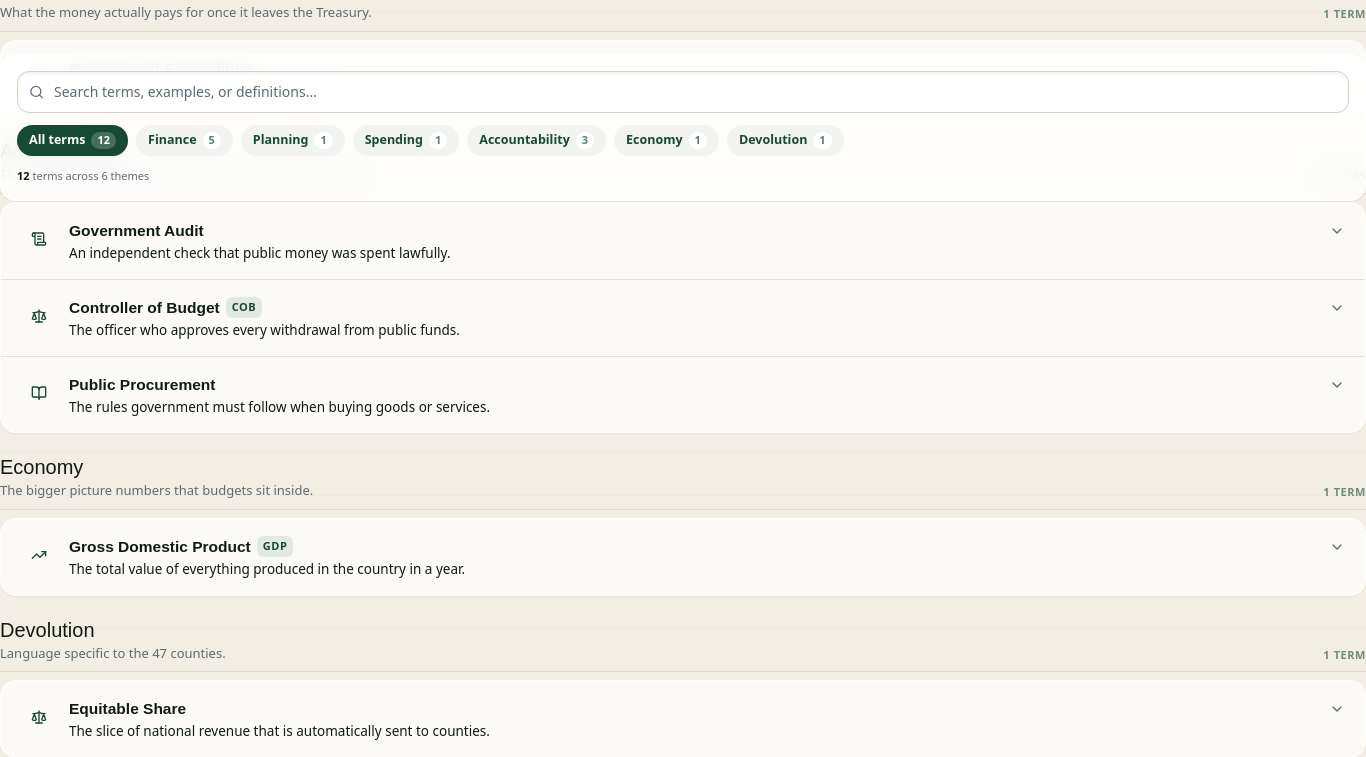
falls back to the dated example when the API fails
(page scrolled)
Click the text "Gross Domestic Product".
click(160, 547)  # box [69,535,251,558]
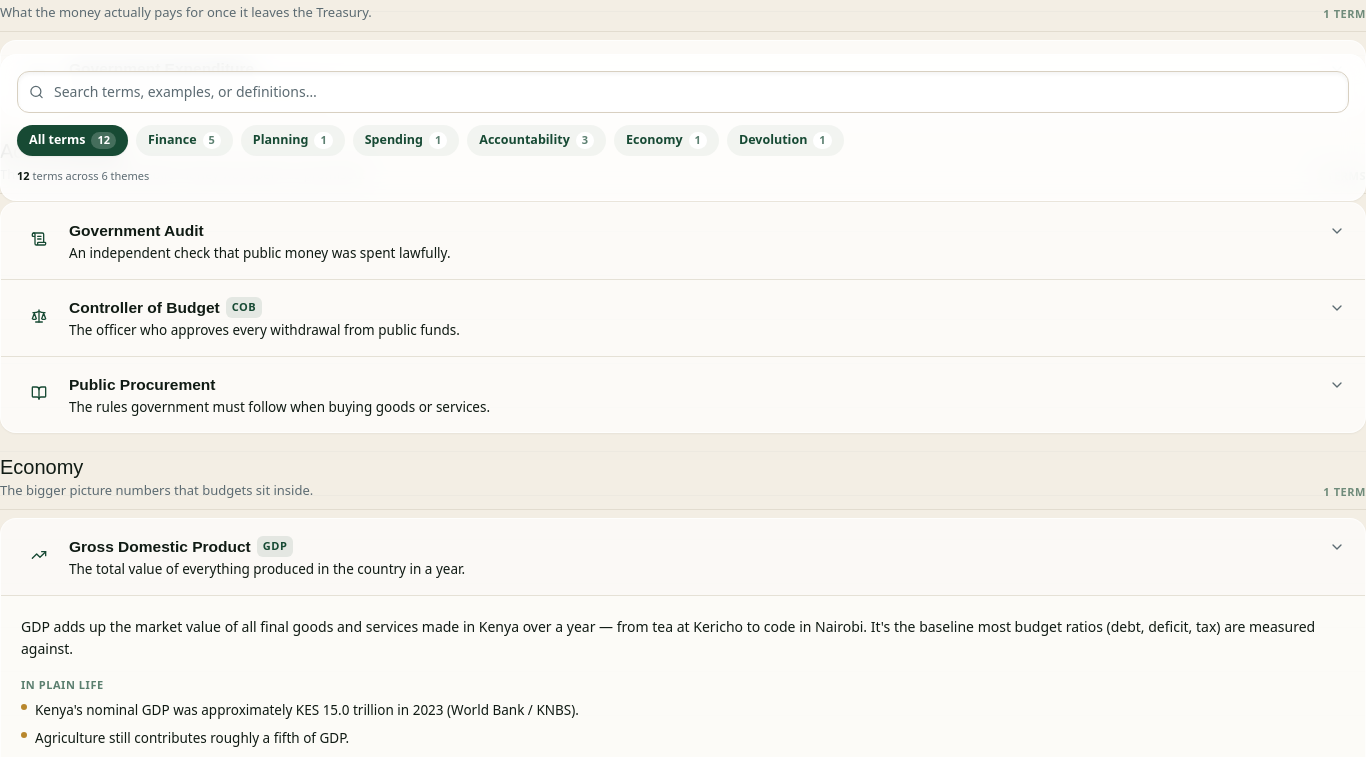
Result: the text "Kenya's nominal GDP was approximately KES 15.0 trillion in 2023" is shown at [35,701,579,719]
